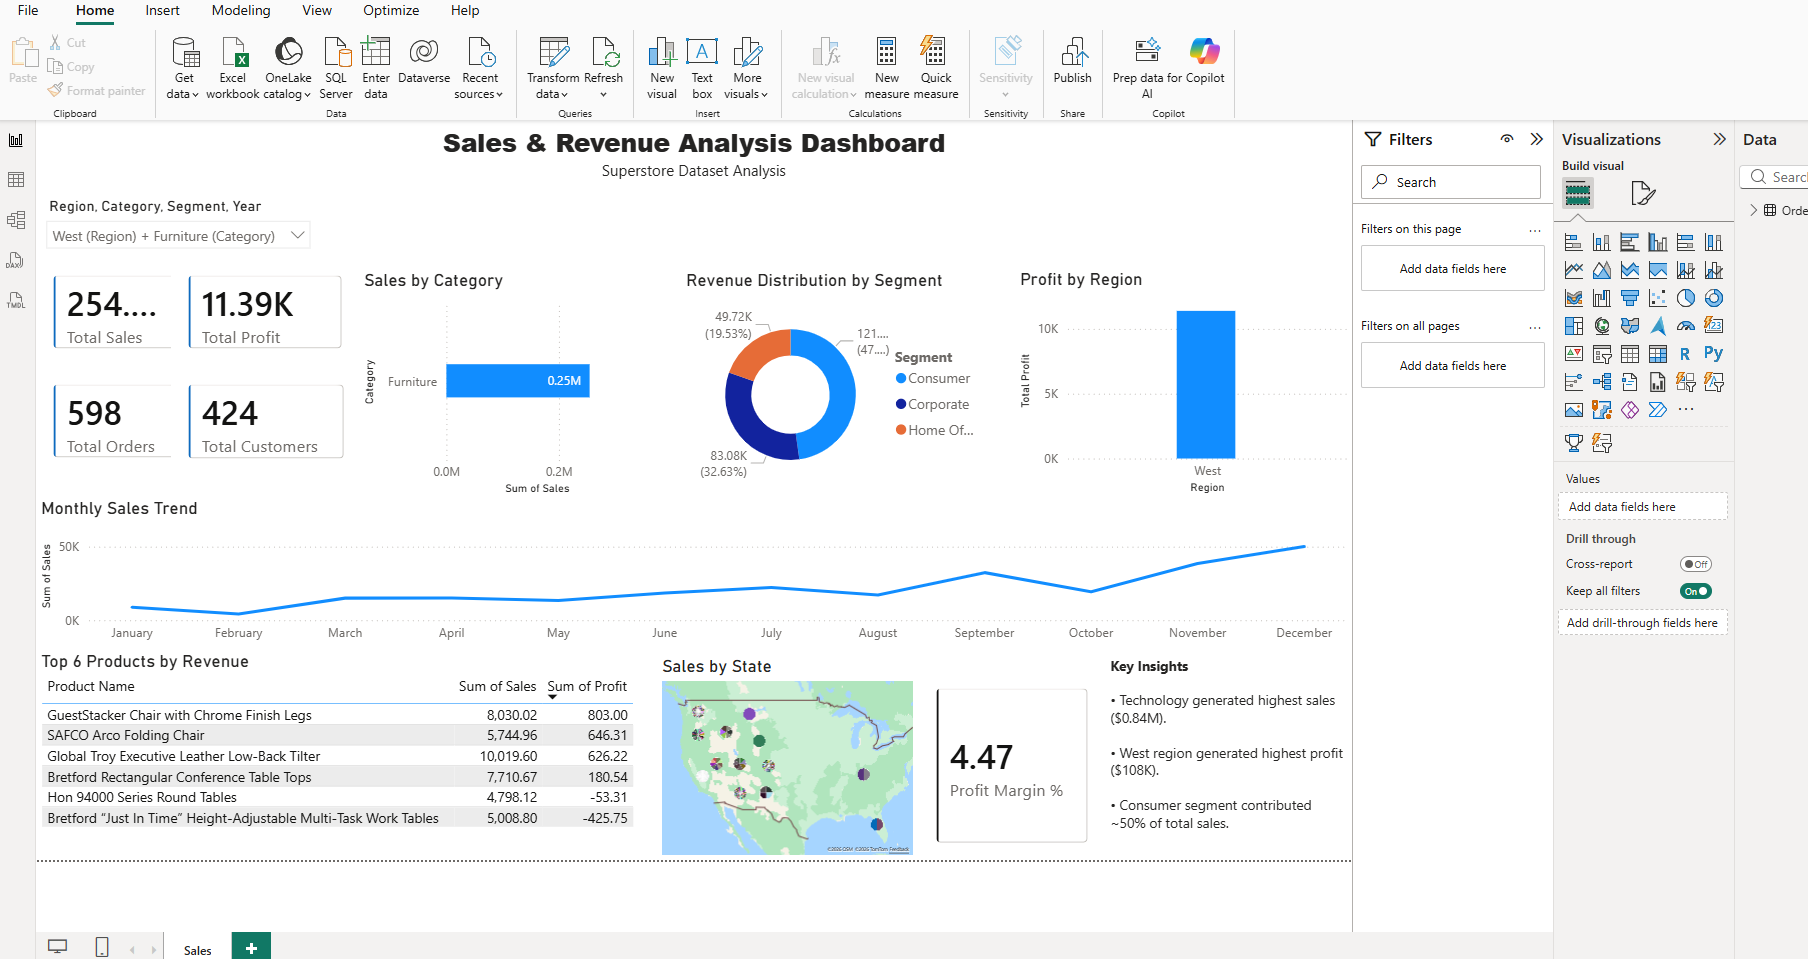

This screenshot's page, from the dashboard's own definition file:
{"tool":"powerbi","page":{"name":"Sales","canvas":[1280,720],"ordinal":0},"visuals":[{"type":"cardVisual","fields":{"Data":["Orders.Total Sales"]},"box":[0,134.4,163.3,105.6],"z":0},{"type":"cardVisual","fields":{"Data":["Orders.Total Profit"]},"box":[131.1,134.4,183.3,105.6],"z":1000},{"type":"cardVisual","fields":{"Data":["Orders.Total Orders"]},"box":[0,240,154.4,105.6],"z":2000},{"type":"cardVisual","fields":{"Data":["Orders.Total Customers"]},"box":[131.1,240,185.6,106.7],"z":3000},{"type":"barChart","title":"Sales by Category","fields":{"Category":["Orders.Category"],"Y":["Sum(Orders.Sales)"]},"box":[314.4,145.6,281.1,223.3],"z":4000},{"type":"donutChart","title":"Revenue Distribution by Segment","fields":{"Category":["Orders.Segment"],"Y":["Sum(Orders.Sales)"]},"box":[627.8,145.6,300,223.3],"z":5000},{"type":"columnChart","title":"Profit by Region","fields":{"Category":["Orders.Region"],"Y":["Orders.Total Profit"]},"box":[952.2,144.4,327.8,223.3],"z":6000},{"type":"lineChart","title":"Monthly Sales Trend","fields":{"Y":["Sum(Orders.Sales)"],"Category":["Orders.Order Date.Variation.Date Hierarchy.Month"]},"box":[0,367.8,1280,148.9],"z":7000},{"type":"tableEx","title":"Top 6 Products by Revenue","fields":{"Values":["Orders.Product Name","Sum(Orders.Sales)","Sum(Orders.Profit)"]},"box":[0,516.7,604.4,203.3],"z":8000},{"type":"azureMap","title":"Sales by State","fields":{"Category":["Orders.State"],"Series":["Orders.Sales"]},"box":[604.4,521.1,254.4,198.9],"z":9000},{"type":"slicer","fields":{"Values":["Orders.Region","Orders.Category","Orders.Segment","Orders.Order Date.Variation.Date Hierarchy.Year"]},"box":[0,70,277.2,64.2],"z":10000},{"type":"textbox","box":[894,521,386,199],"z":11000},{"type":"textbox","box":[0,0,1280,70],"z":12000},{"type":"textbox","box":[1040,516.7,240,203.3],"z":13000},{"type":"cardVisual","fields":{"Data":["Orders.Profit Margin %"]},"box":[858.9,535.6,181.1,184.4],"z":14000}]}

Visuals, with their boxes on the page's 1280x720 design canvas (x1, y1, x2, y2). These are canvas units, not pixel positions in the 1808x959 screenshot, which may show the page scaled, cropped or inside an application window:
cardVisual - Orders.Total Sales: rect(0, 134, 163, 240)
cardVisual - Orders.Total Profit: rect(131, 134, 314, 240)
cardVisual - Orders.Total Orders: rect(0, 240, 154, 346)
cardVisual - Orders.Total Customers: rect(131, 240, 317, 347)
"Sales by Category" barChart: rect(314, 146, 596, 369)
"Revenue Distribution by Segment" donutChart: rect(628, 146, 928, 369)
"Profit by Region" columnChart: rect(952, 144, 1280, 368)
"Monthly Sales Trend" lineChart: rect(0, 368, 1280, 517)
"Top 6 Products by Revenue" tableEx: rect(0, 517, 604, 720)
"Sales by State" azureMap: rect(604, 521, 859, 720)
slicer - Orders.Region x Orders.Category: rect(0, 70, 277, 134)
textbox: rect(894, 521, 1280, 720)
textbox: rect(0, 0, 1280, 70)
textbox: rect(1040, 517, 1280, 720)
cardVisual - Orders.Profit Margin %: rect(859, 536, 1040, 720)
